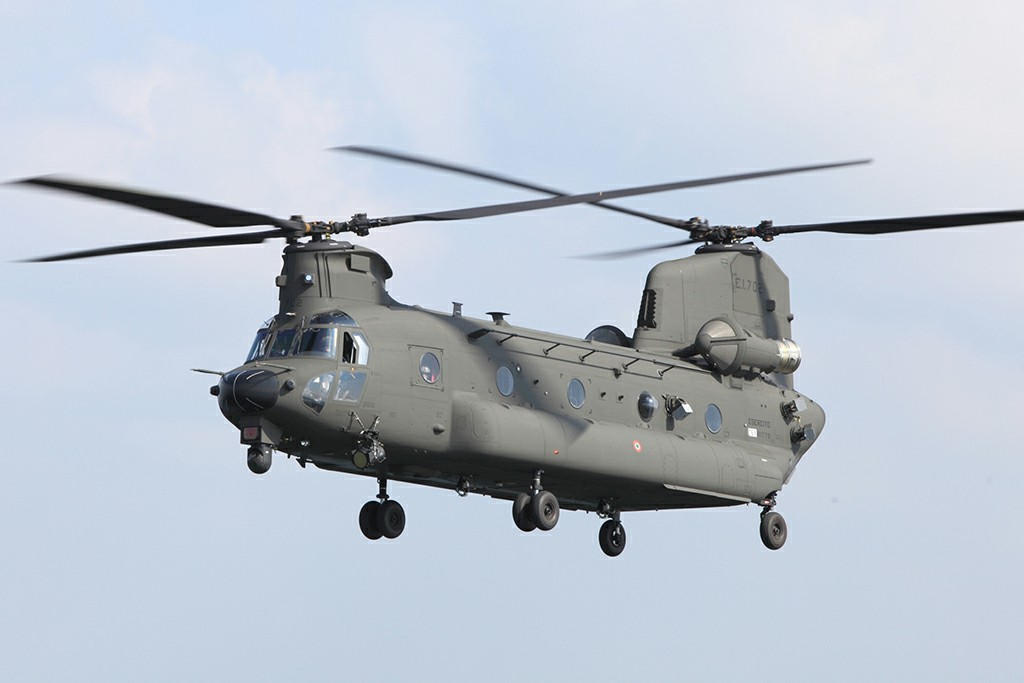chinook: (78, 156, 1008, 567)
